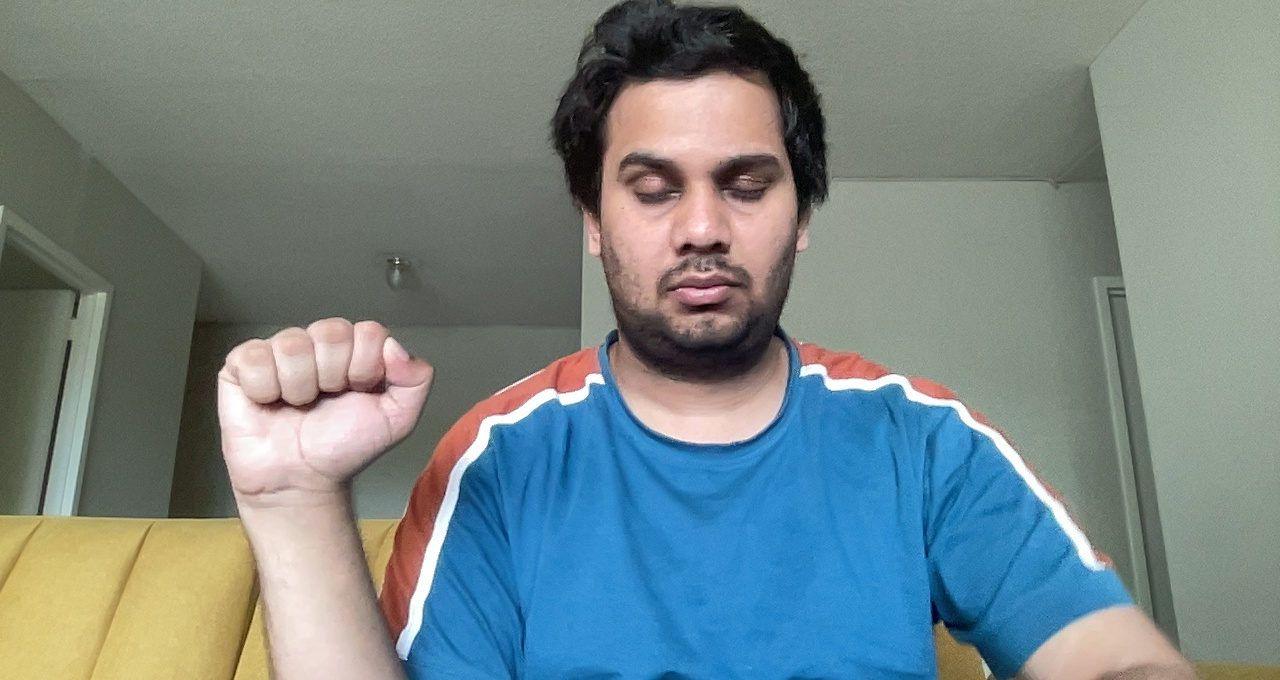closedfist: (209, 313, 441, 509)
